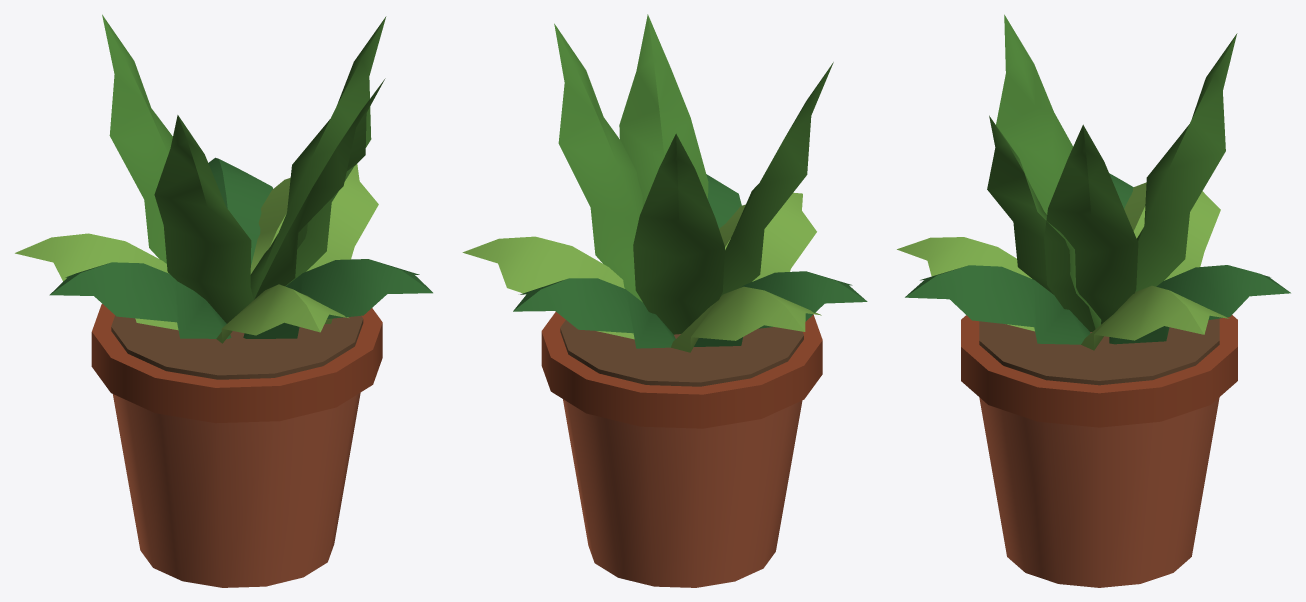
The model's file is planter_pot.glb.
The picture shows the model from 3 angles, left to right: view 1: azimuth 30°, elevation 25°; view 2: azimuth 150°, elevation 25°; view 3: azimuth 270°, elevation 25°; orthographic projection. The views are drawn at different scales.
Visible parts, largest first — view 1: body; view 2: body; view 3: body.
Part boxes in pixels (<box>): body: <box>15,14,432,587</box>; body: <box>462,14,867,587</box>; body: <box>897,14,1290,587</box>.
Size of the model in its own units: 0.8637 by 1.14 by 0.8343.
